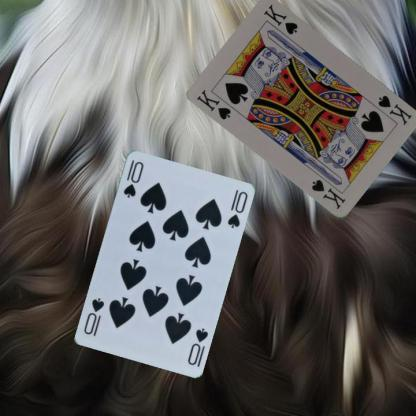10s: (120, 156, 145, 198), (185, 325, 209, 366)
Ks: (194, 86, 233, 121), (376, 92, 414, 127)
